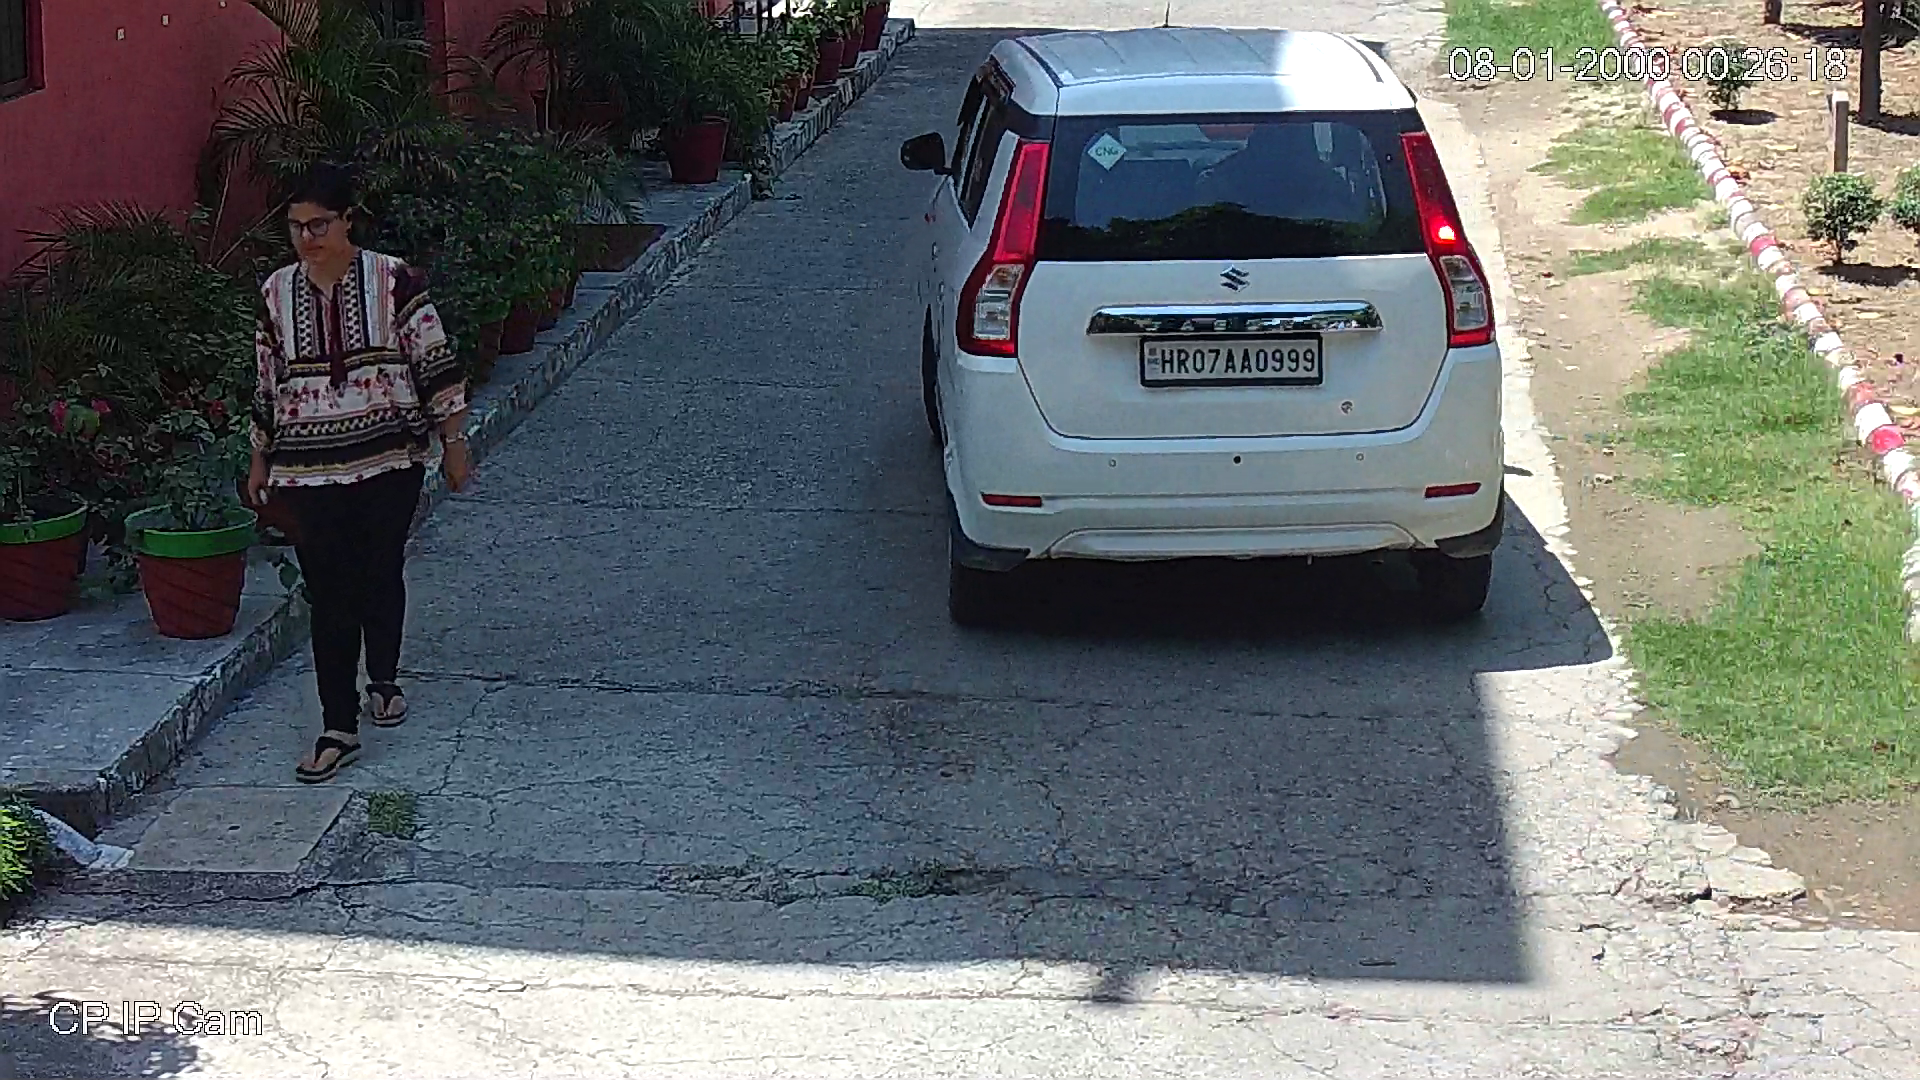plate: (1150, 339, 1318, 384)
